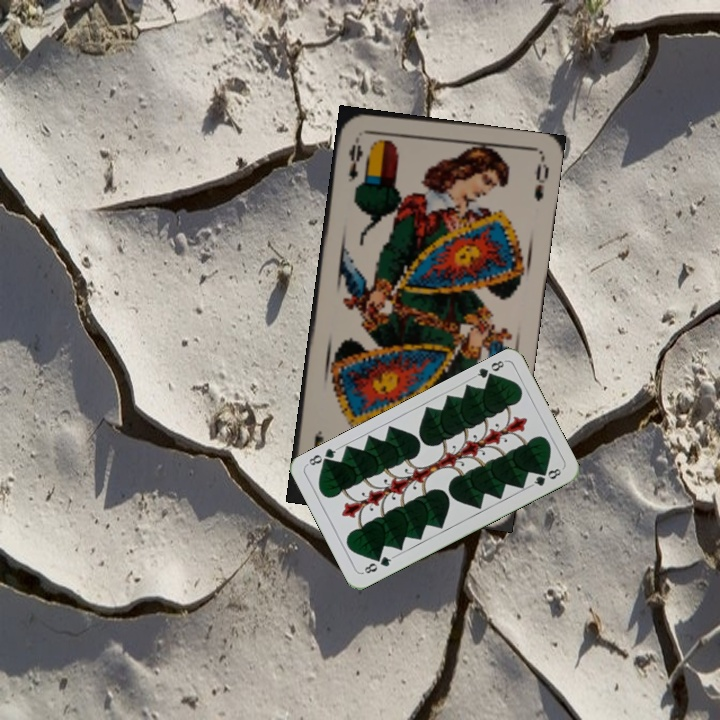EO: (343, 132, 366, 184)
G8: (470, 356, 508, 384), (358, 552, 396, 576)
